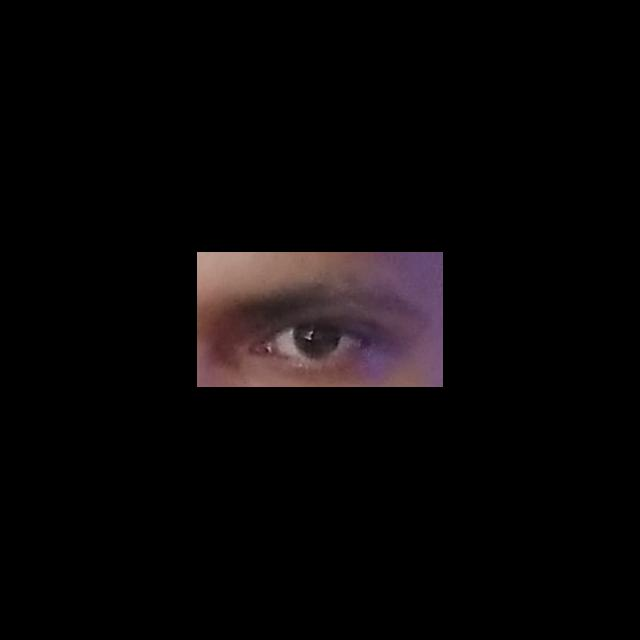eye: (268, 326, 359, 361)
iris: (294, 327, 341, 359)
